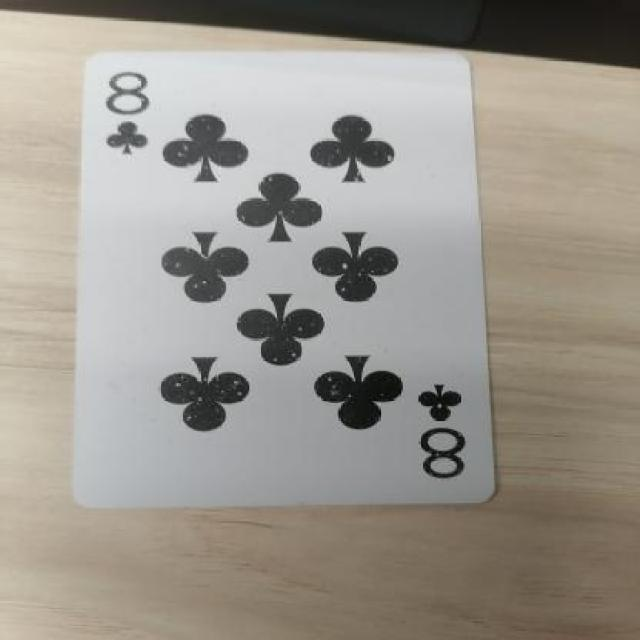8C: (92, 70, 174, 164), (407, 384, 475, 488)
